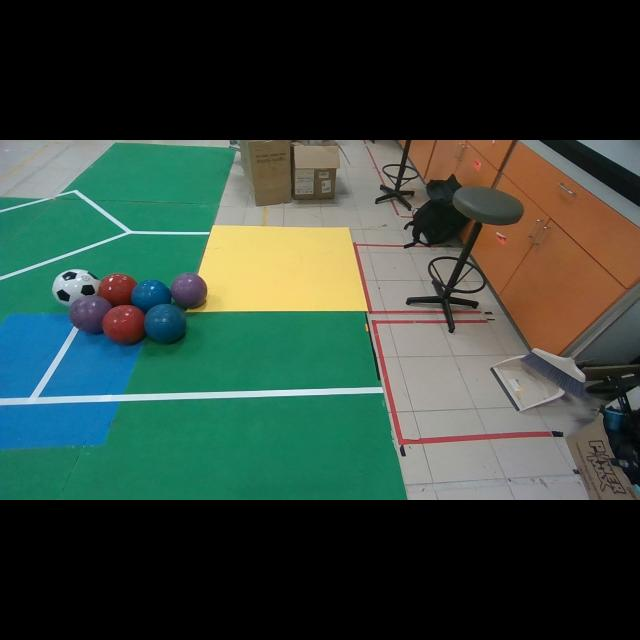B: (144, 304, 186, 344), (132, 280, 171, 313)
P: (70, 295, 112, 334), (170, 272, 208, 309)
R: (102, 305, 145, 344), (98, 272, 138, 306)
